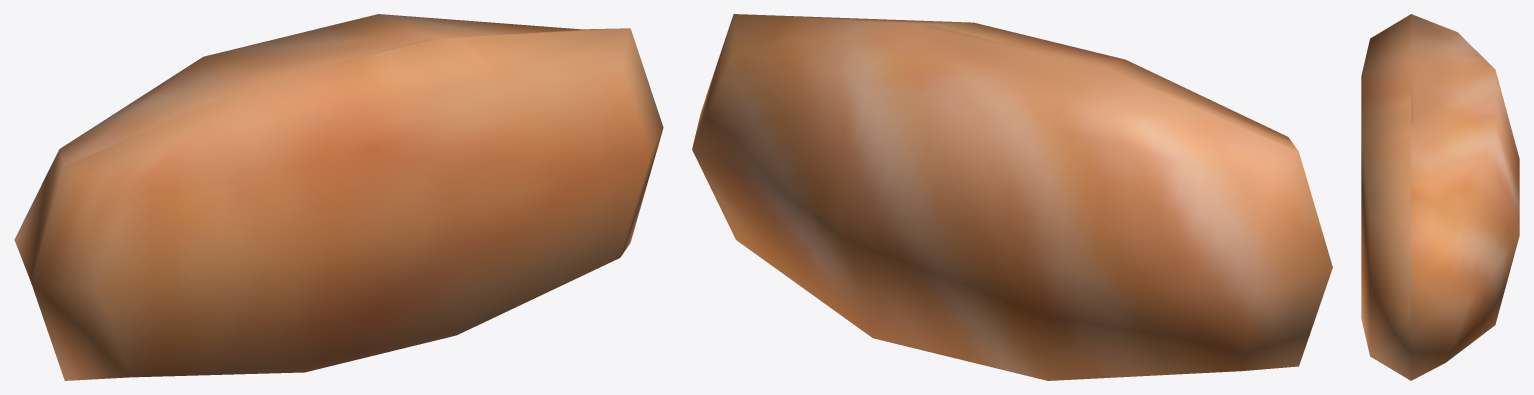
Rendered from Bread_A.fbx.
3 views of the same model, side by side, from view 1: azimuth 30°, elevation 25°; view 2: azimuth 150°, elevation 25°; view 3: azimuth 270°, elevation 25° (orthographic). The views are drawn at different scales.
Visible parts, largest first — view 1: Bread_A; view 2: Bread_A; view 3: Bread_A.
Part boxes in pixels (left/top/right/bottom): Bread_A: left=14, top=14, right=663, bottom=380; Bread_A: left=692, top=14, right=1332, bottom=380; Bread_A: left=1361, top=14, right=1519, bottom=380.
Size of the model in its own units: 0.7544 by 0.3287 by 0.2186.
